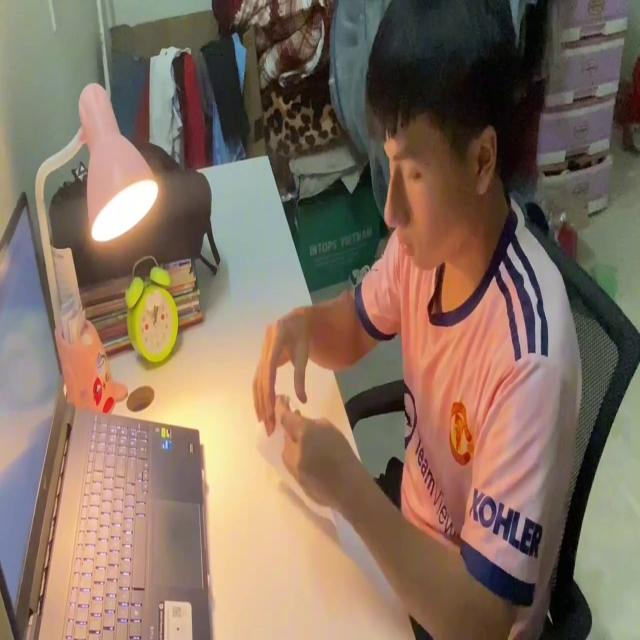laptop: (0, 186, 211, 640)
student: (253, 2, 582, 640)
